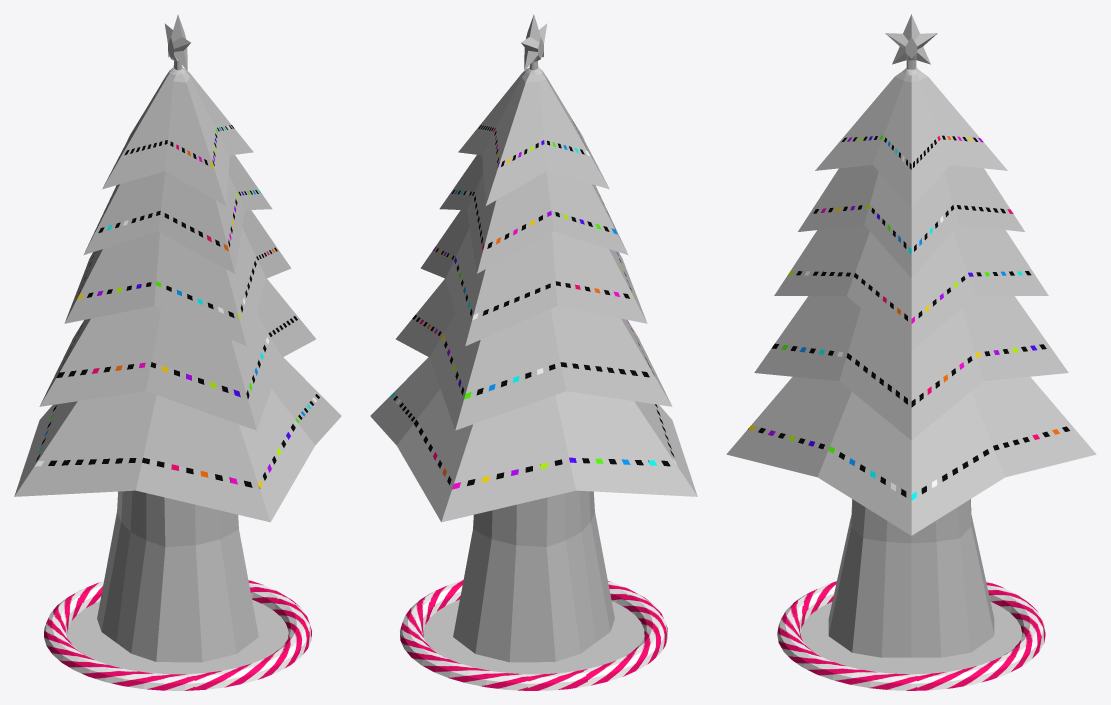
File: ChristmasTree.fbx
3 views of the same model, side by side, from view 1: azimuth 30°, elevation 25°; view 2: azimuth 150°, elevation 25°; view 3: azimuth 270°, elevation 25° (orthographic).
Parts seen in each view (by area): view 1: Christmastree; view 2: Christmastree; view 3: Christmastree.
Boxes of the visible parts, <box> form: Christmastree: <box>14,14,341,690</box>; Christmastree: <box>370,14,697,690</box>; Christmastree: <box>726,14,1096,690</box>.
Size of the model in its own units: 571 by 1032 by 559.
